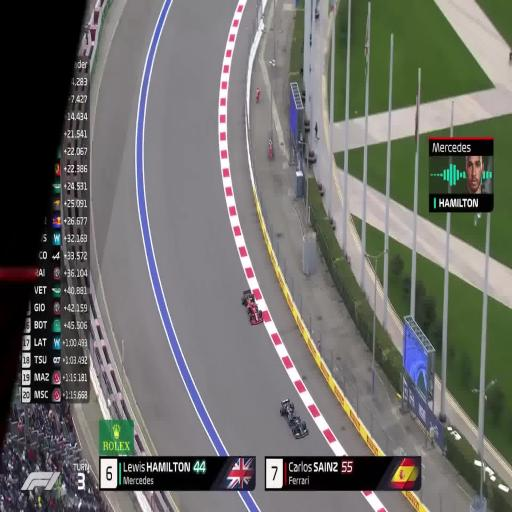f1_car: (280, 400, 308, 438), (241, 289, 263, 324)
